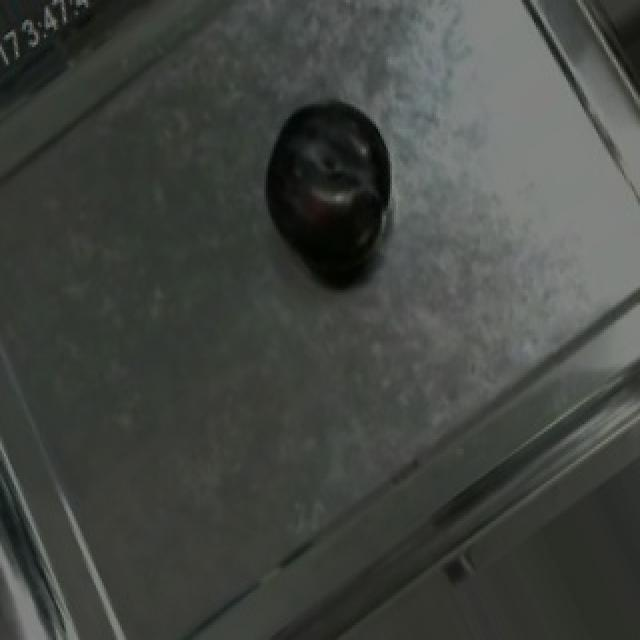Fruit: (244, 80, 412, 296)
